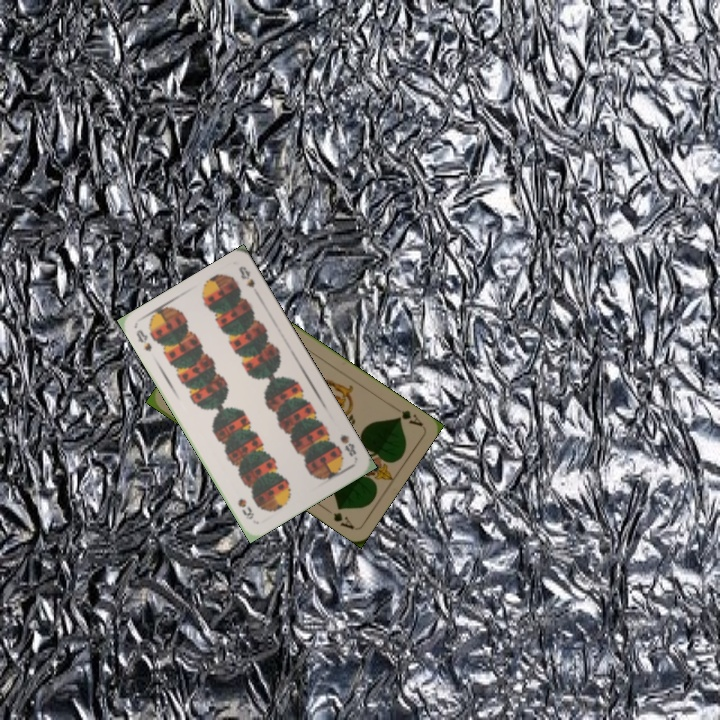GA: (392, 406, 425, 429)
S8: (336, 430, 359, 459), (132, 325, 154, 354)
